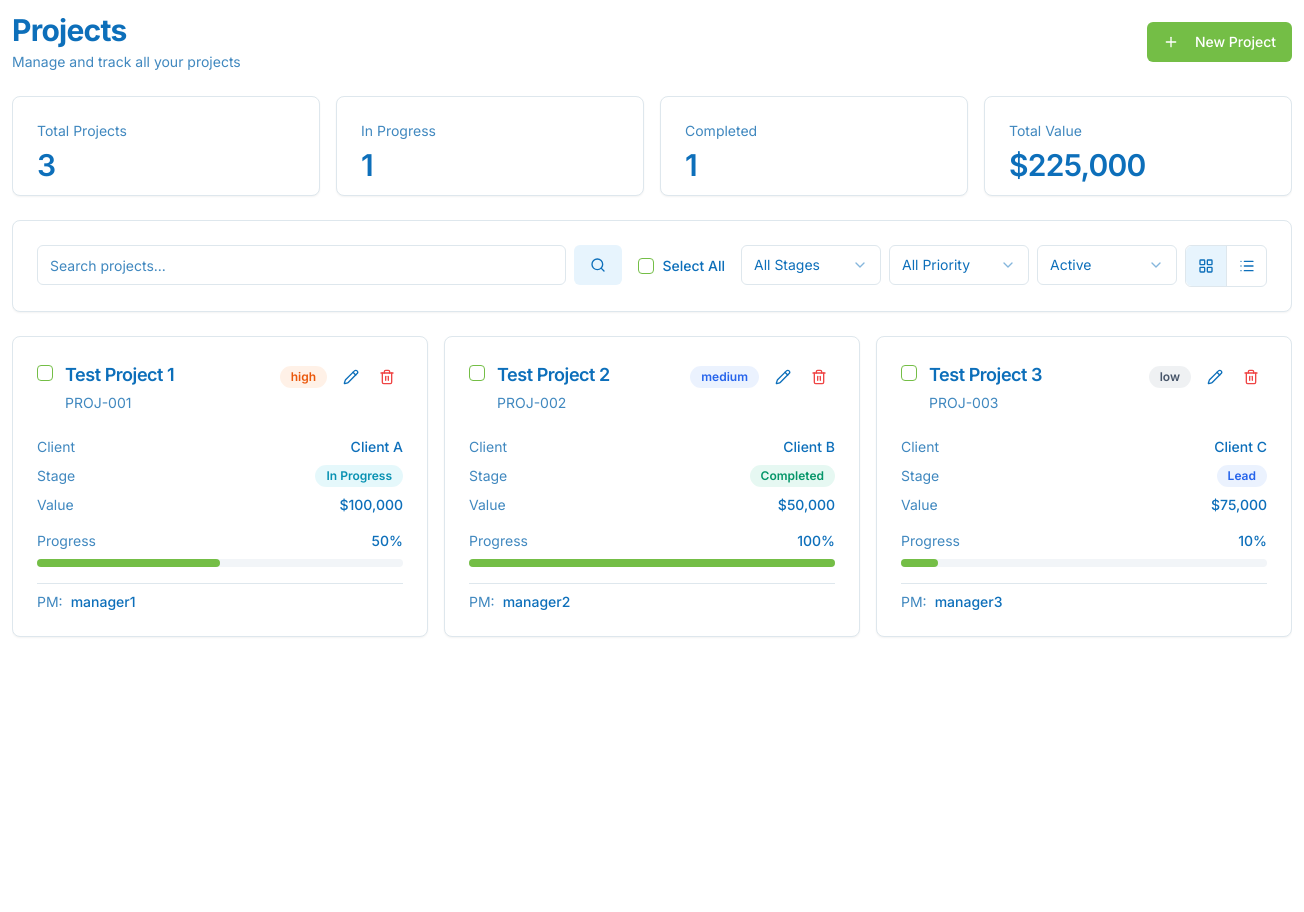
Scenario: ProjectsPage › Project Selection › selects all projects
The width and height of the screenshot is (1304, 912).
Check: the text "Test Project 1" is shown, box [65,364,174,385]
Click the checkbox named "Select All" next to "Select All" at (646, 266), box [638,258,654,274]
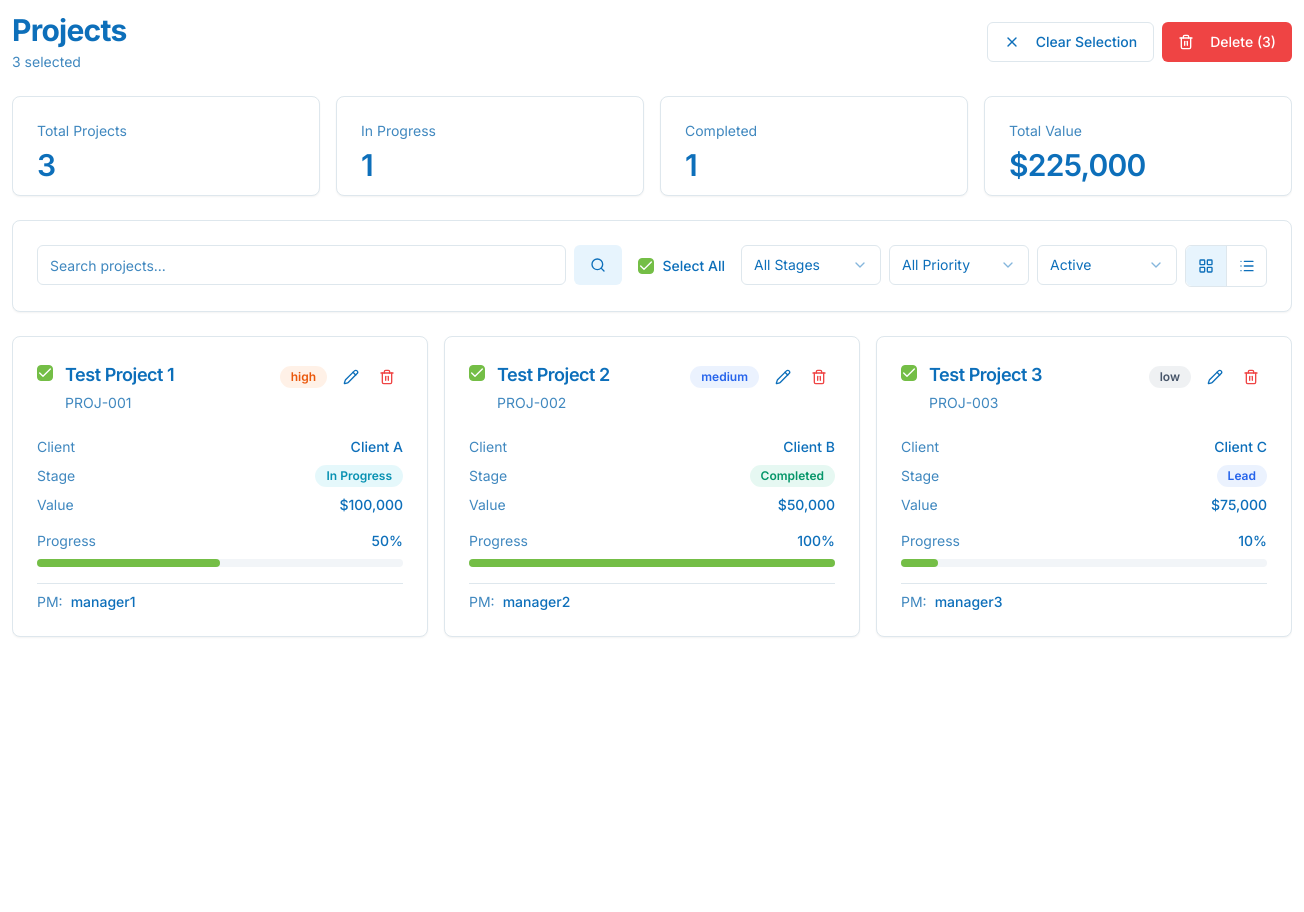
Check: the text "3 selected" is shown, box [12,53,81,70]
